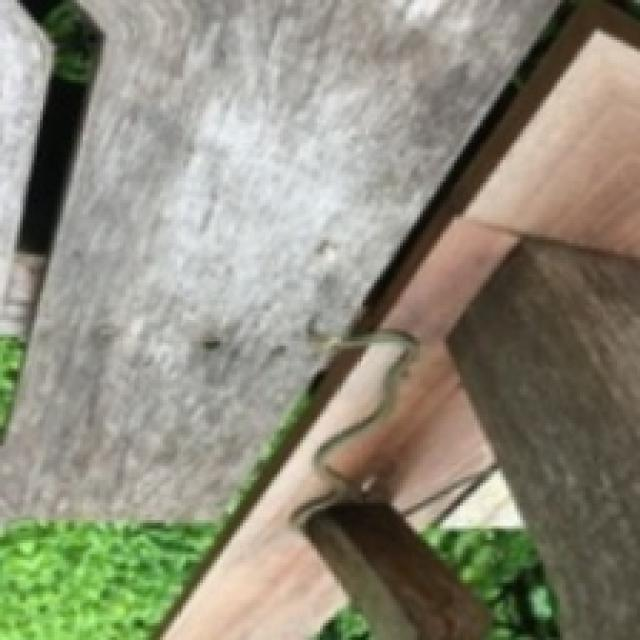paradise tree snake: (292, 322, 420, 527)
